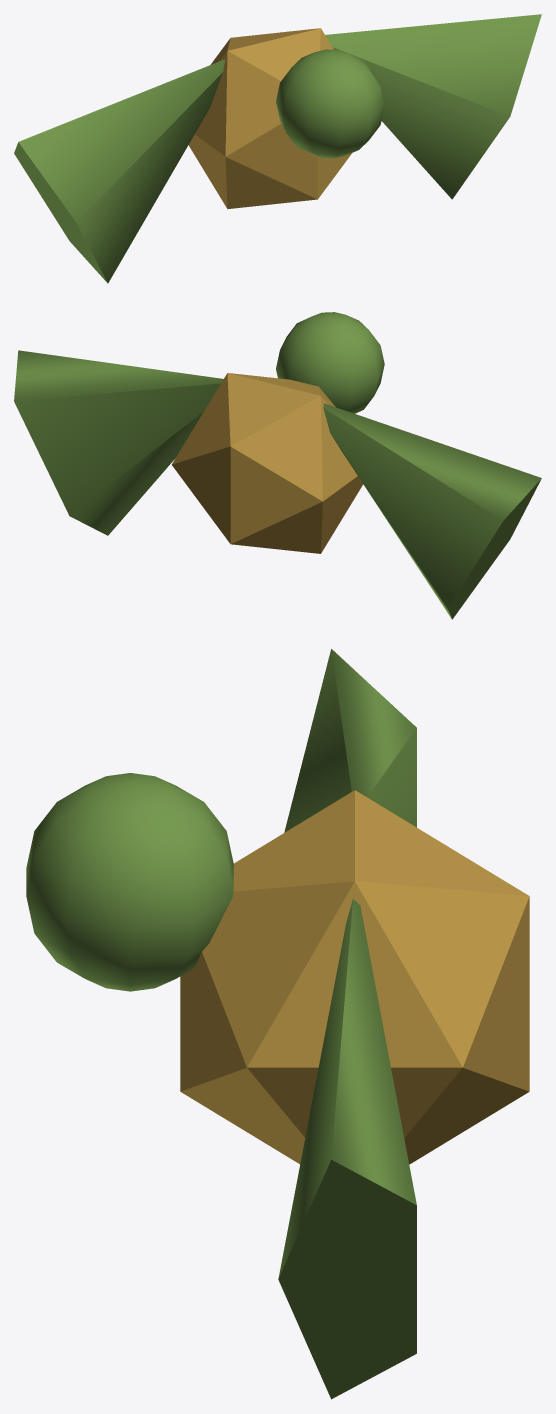
File: harvest_crow.glb
3 renders of one model, top to bottom at view 1: azimuth 30°, elevation 25°; view 2: azimuth 150°, elevation 25°; view 3: azimuth 270°, elevation 25°, orthographic. The views are drawn at different scales.
Visible parts, largest first — view 1: wing_-1, wing_1, body_core, head_core; view 2: body_core, wing_1, wing_-1, head_core; view 3: body_core, wing_1, head_core, wing_-1.
Boxes of the visible parts, x1,y1,x2,y2 form: wing_-1: (14,59,225,283); wing_1: (325,14,541,199); body_core: (188,28,351,209); head_core: (276,49,384,158); body_core: (171,373,363,553); wing_1: (14,350,223,535); wing_-1: (323,403,541,619); head_core: (276,312,384,413); body_core: (180,790,529,1164); wing_1: (278,898,416,1399); head_core: (26,773,233,991); wing_-1: (284,649,416,832).
Size of what is drawn, in the model's own units: 4.42 by 1.81 by 1.84.
